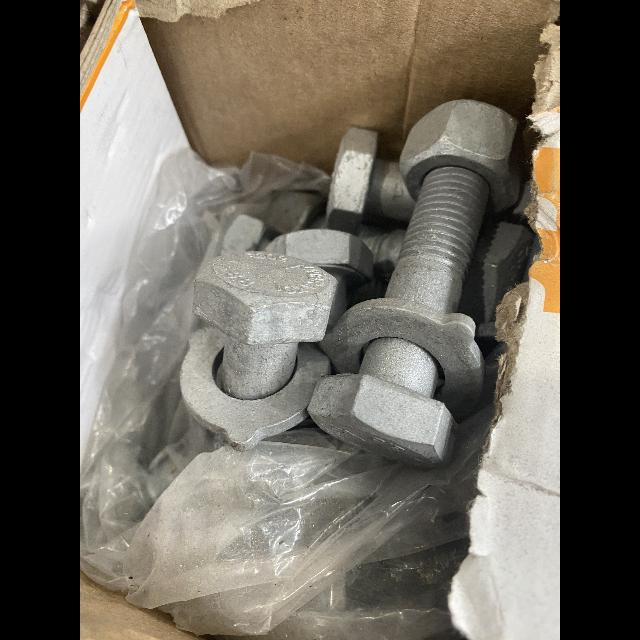Galvanized Steel: (305, 97, 527, 469), (179, 253, 338, 451), (262, 227, 376, 326), (328, 126, 416, 232), (466, 219, 531, 321), (355, 222, 409, 283), (215, 212, 278, 258), (265, 191, 328, 232)
